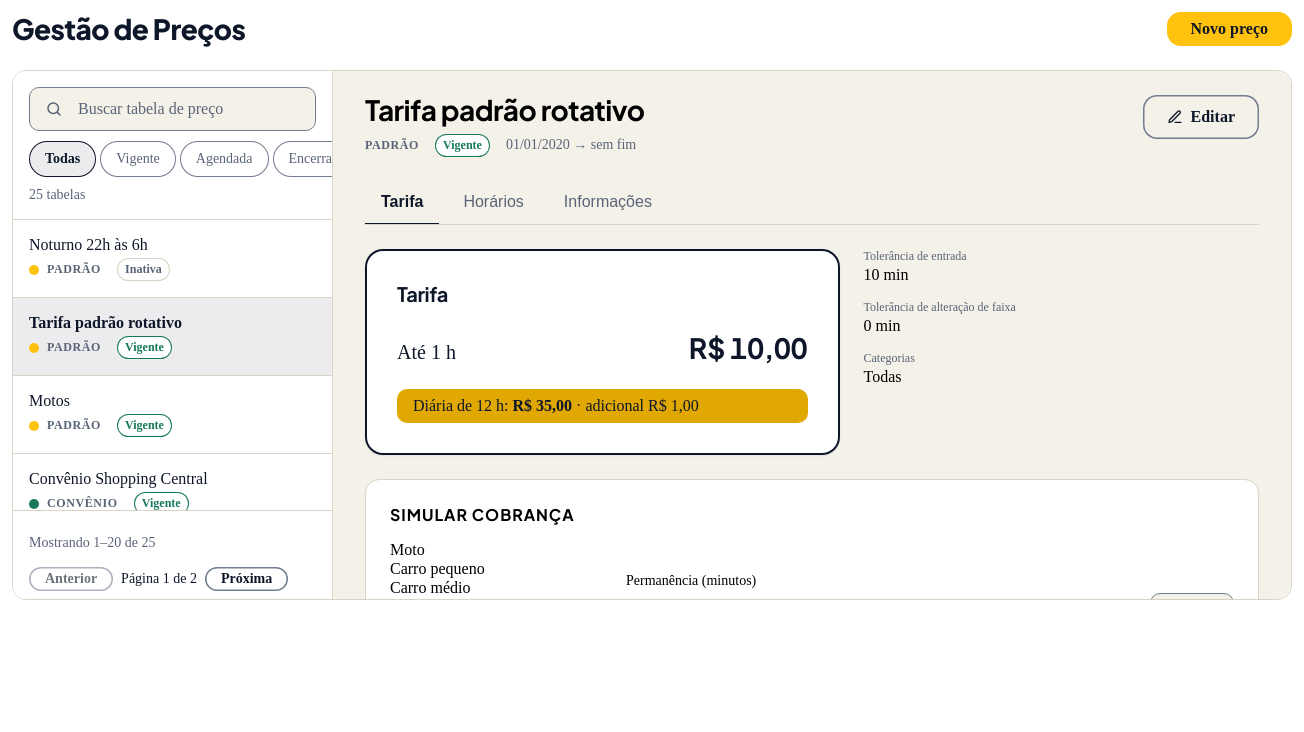
PrecosMasterDetail: paginação › pagina de 20 em 20 e mostra o intervalo
Expected: the text "Mostrando 1–20 de 25" is shown, [29,535,155,551]
Click the button "Próxima": (247, 579) [205,567,288,591]
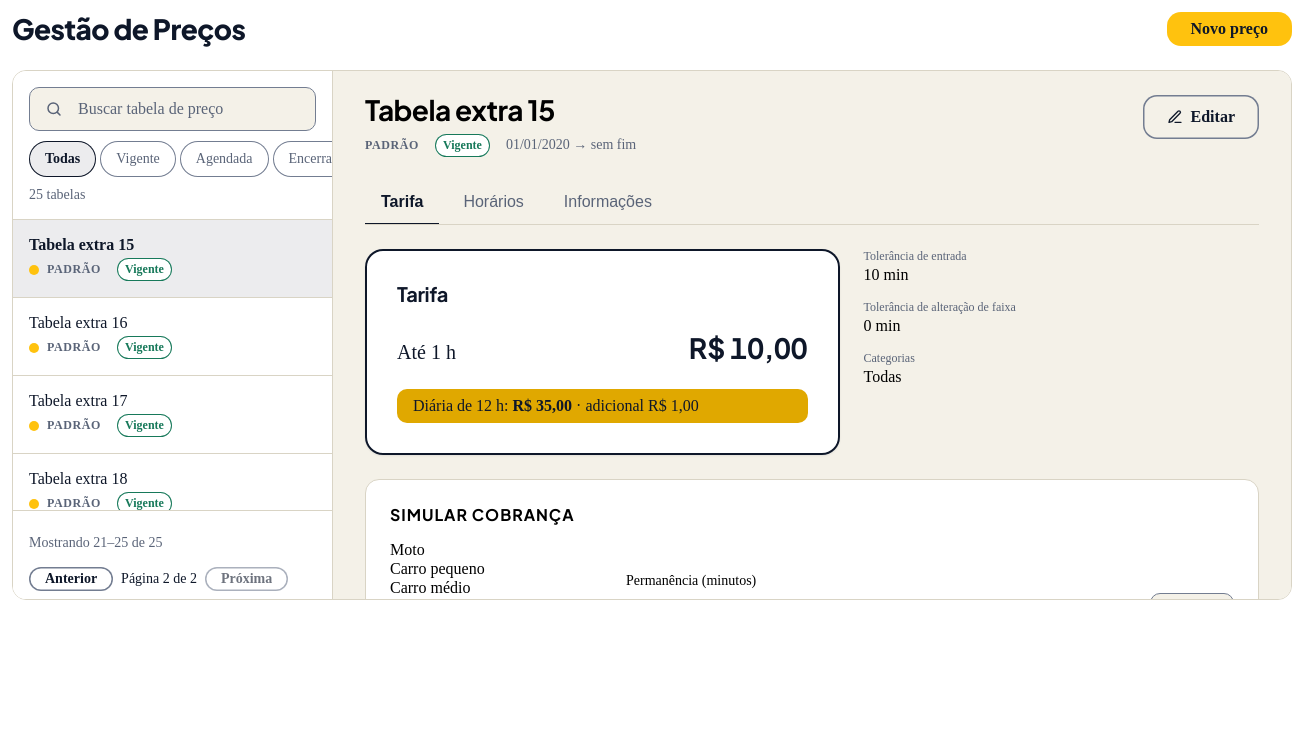
Expected: the text "Mostrando 21–25 de 25" is shown, [29,535,162,551]
